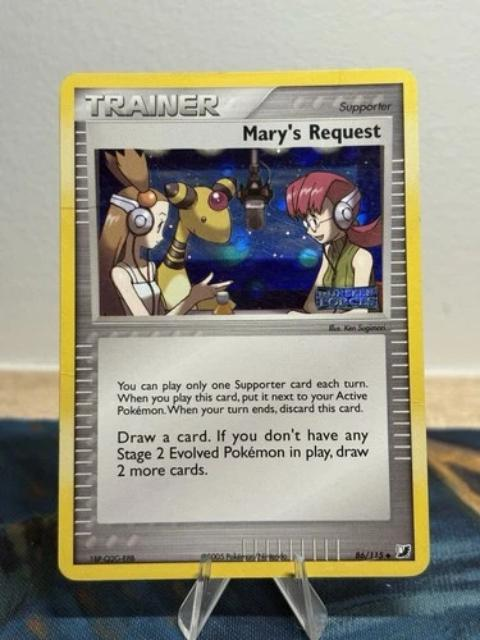Card: (53, 61, 436, 585)
Name: (237, 117, 388, 147)
